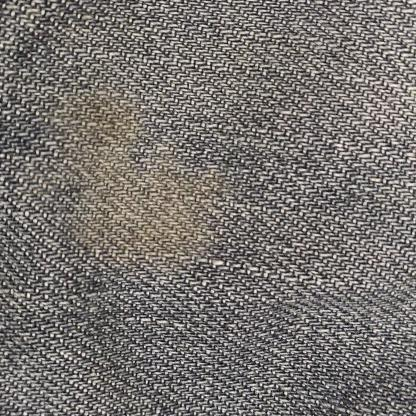spot: (28, 83, 240, 273)
